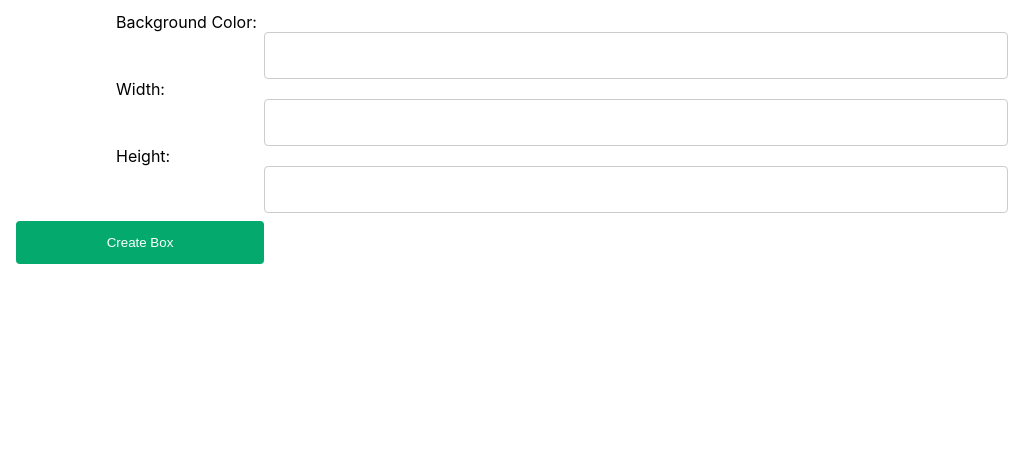
can add new box
Type "10" into the field labelled "Width:" at coordinates (636, 122), box [264, 99, 1008, 146]
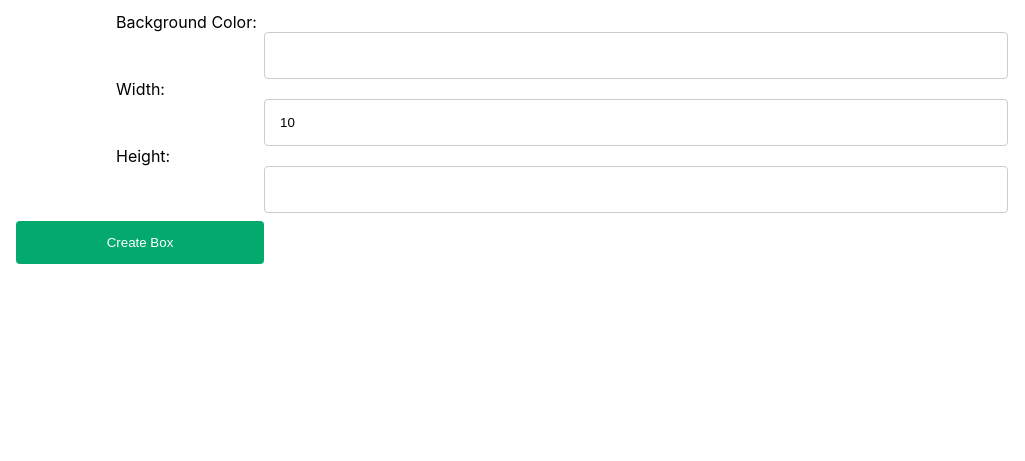
Type "10" into the field labelled "Height:" at coordinates (636, 190), box [264, 166, 1008, 213]
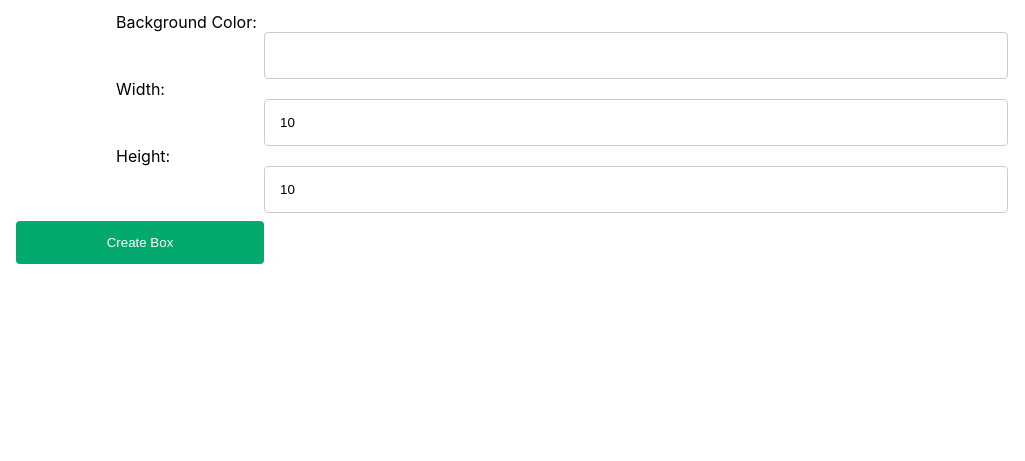
Type "purple" into the field labelled "Background Color:" at coordinates (636, 56), box [264, 32, 1008, 79]
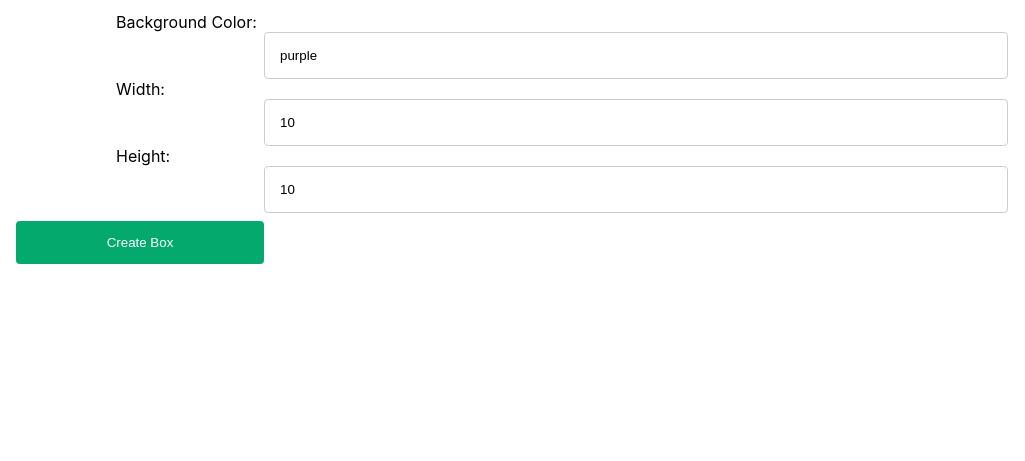
Click the button "Create Box" at coordinates (140, 242), box [16, 221, 264, 264]
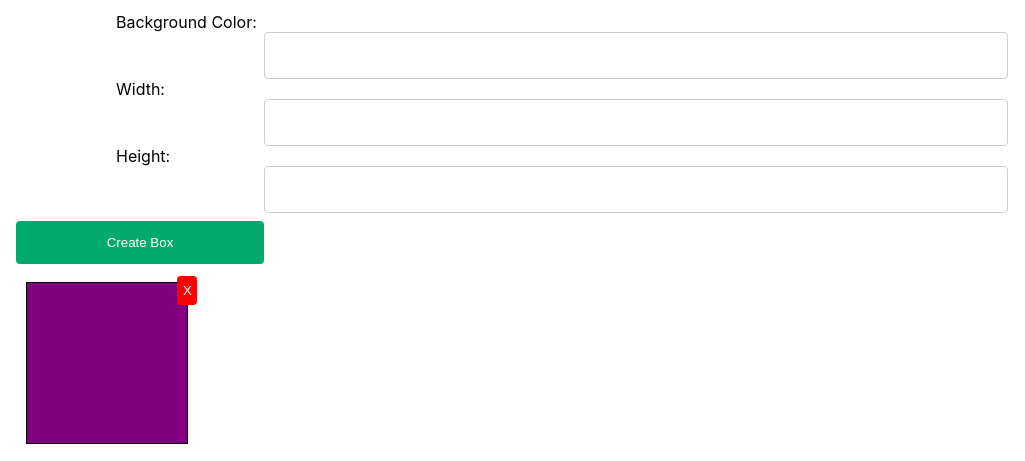
Check: the button "X" is shown, box [177, 276, 197, 305]
